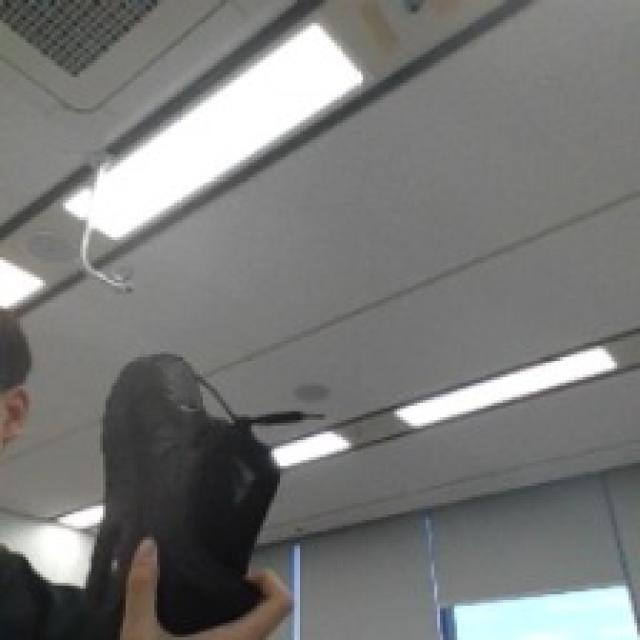shoes: (65, 320, 315, 640)
